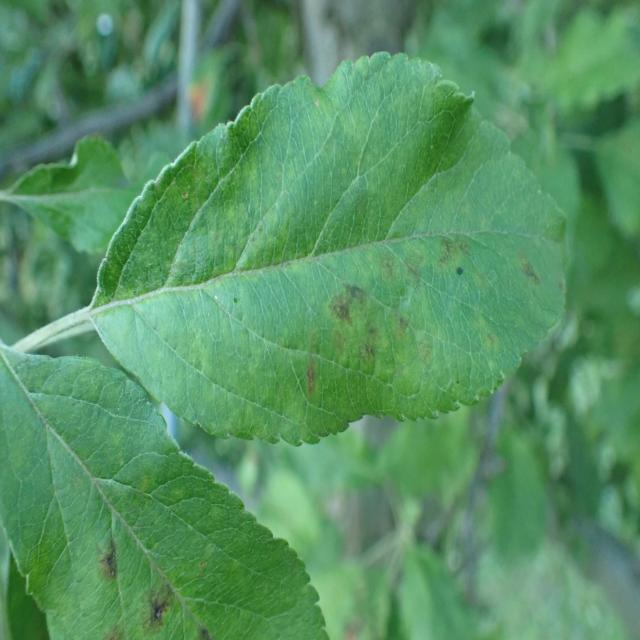scab: (137, 125, 585, 418), (53, 431, 265, 640)
